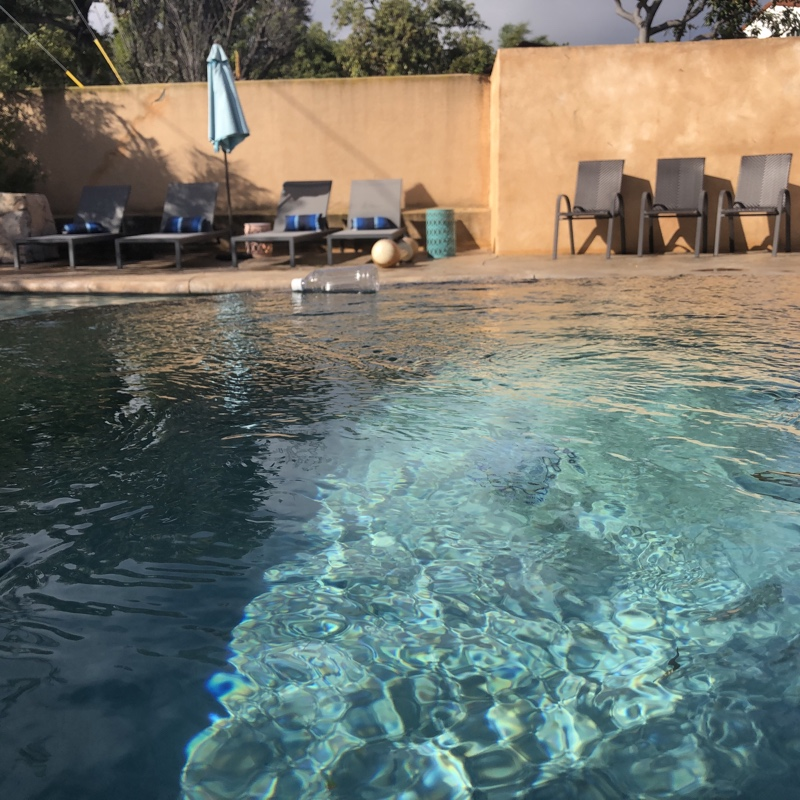Plastic Bottle: (289, 264, 382, 298)
